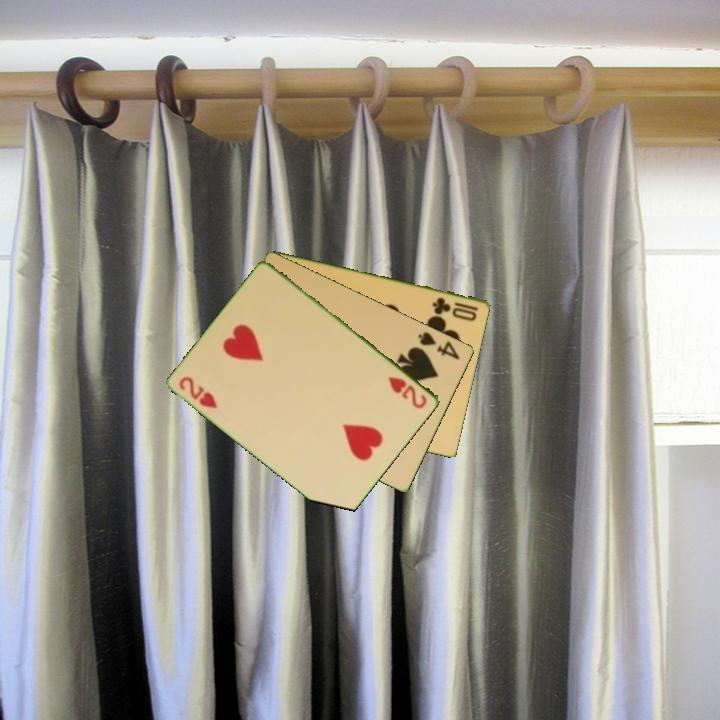10c: (429, 293, 481, 323)
2h: (385, 373, 430, 412), (176, 373, 221, 412)
4s: (415, 328, 463, 362)
